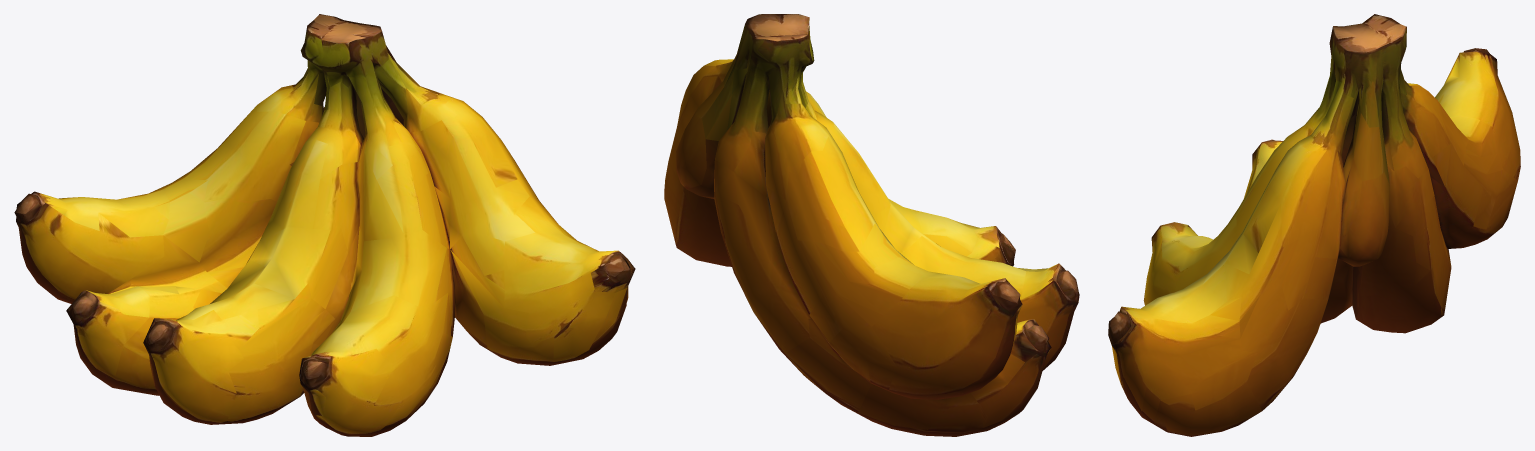
File: banana.glb
3 views of the same model, side by side, from view 1: azimuth 30°, elevation 25°; view 2: azimuth 150°, elevation 25°; view 3: azimuth 270°, elevation 25° (orthographic). The views are drawn at different scales.
Parts seen in each view (by area): view 1: BananaMesh; view 2: BananaMesh; view 3: BananaMesh.
Part boxes in pixels (x1,y1,x2,y2): BananaMesh: (14,14,635,436); BananaMesh: (664,14,1079,436); BananaMesh: (1108,14,1520,436).
Bounding box in the file's own units: 0.3841 × 0.266 × 0.276.
1 material, 1 textured.
